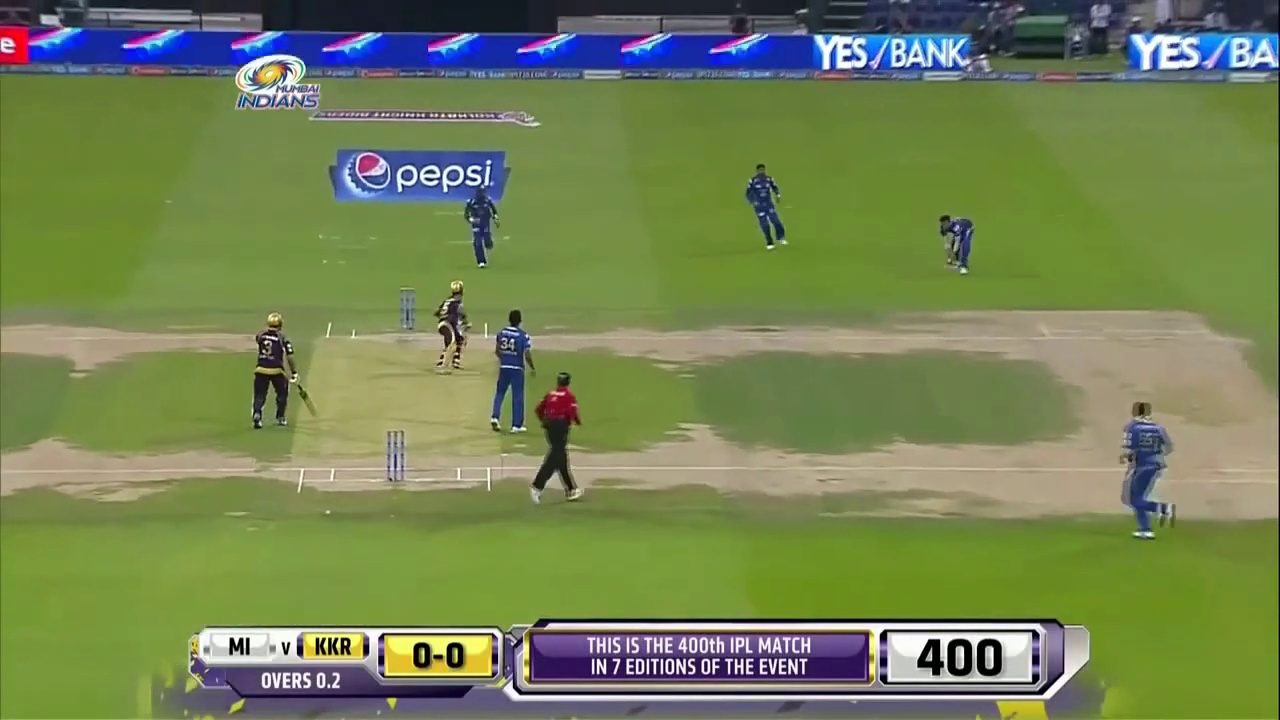bat: (298, 383, 320, 420)
stumps: (386, 430, 405, 482), (399, 287, 417, 330)
